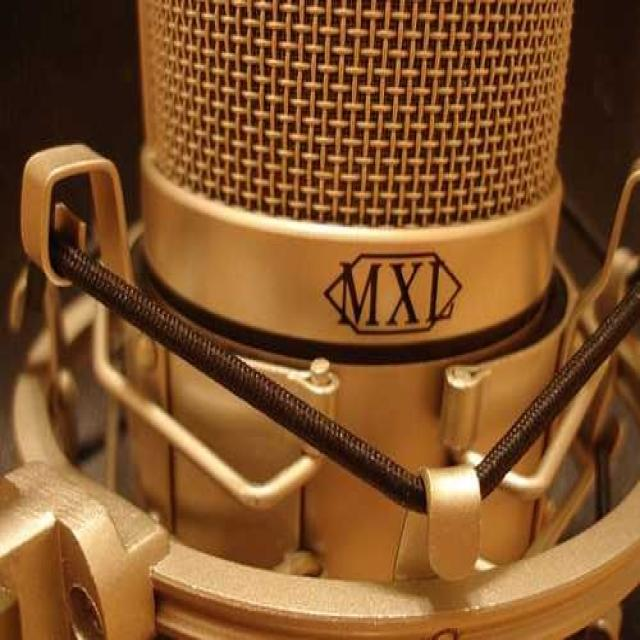microphone: (96, 1, 597, 576)
